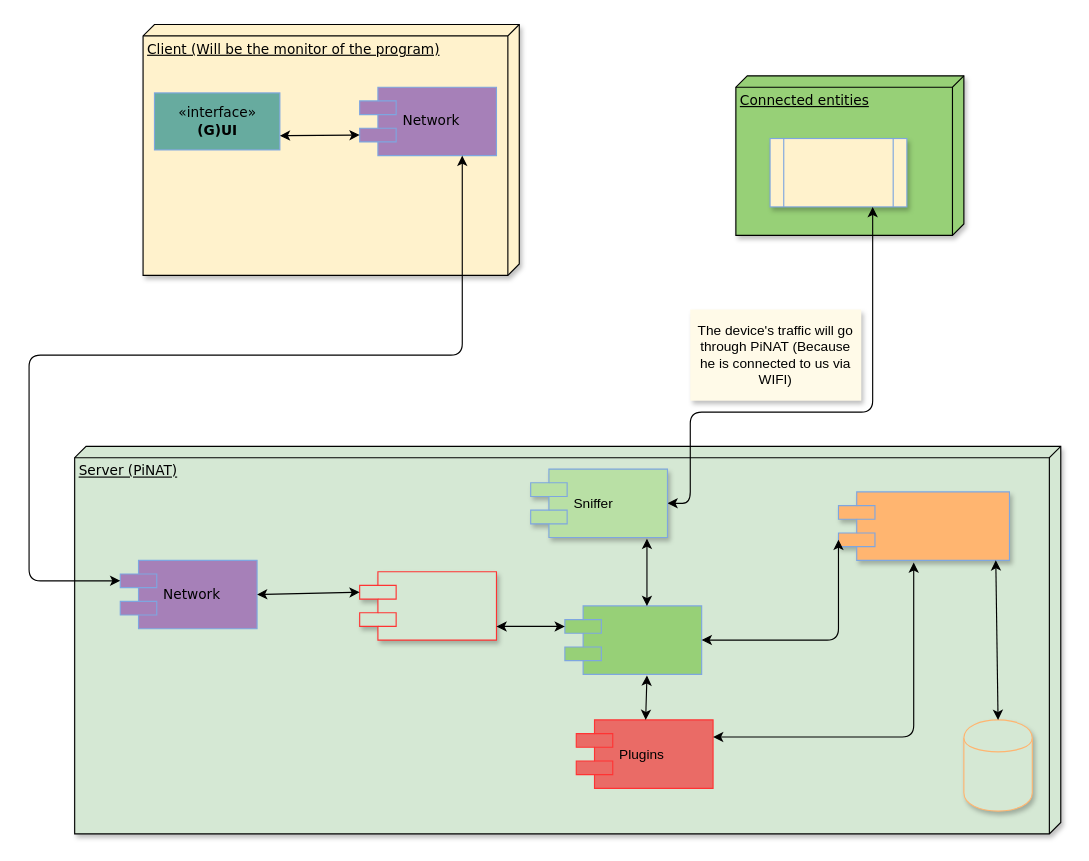
The diagram is 1089 pixels wide and 861 high, and some of its shapes have lost their labels. The shapes that lost their labels are listed below. From the top down, each one's centre as x and y in pixels, then its label:
At (839,174): "The device".
At (924,527): "Database_Manager".
At (428,607): "RESTful API".
At (633,639): "Core Logic".
At (998,766): "DB".
